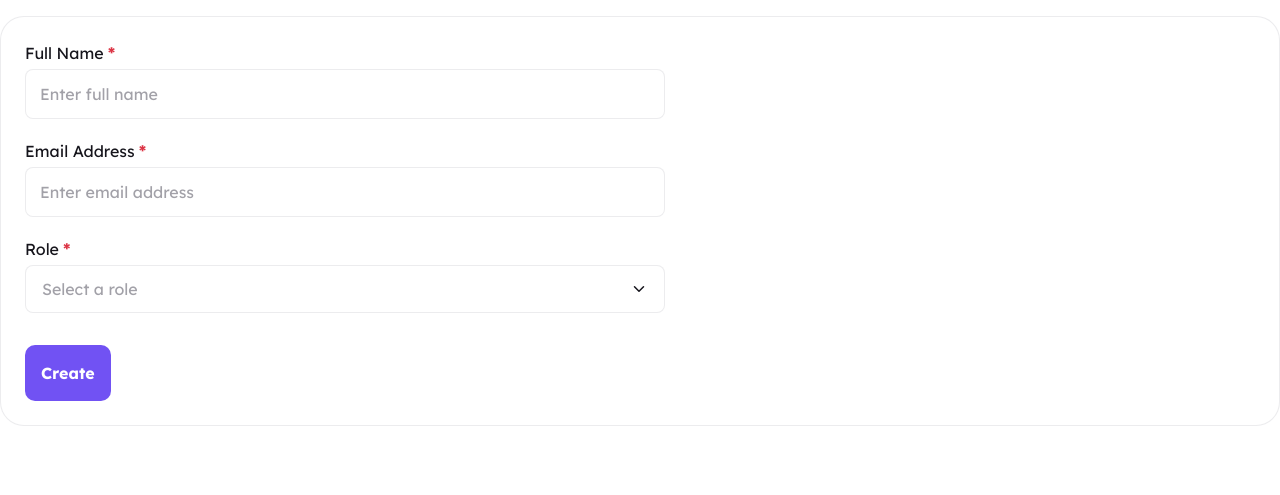
it: CreateUserDashboard › validation › rejects a malformed email address
In the field with placeholder "Enter full name": (345, 94) top-left (26, 70), bottom-right (664, 118), type "John Smith"
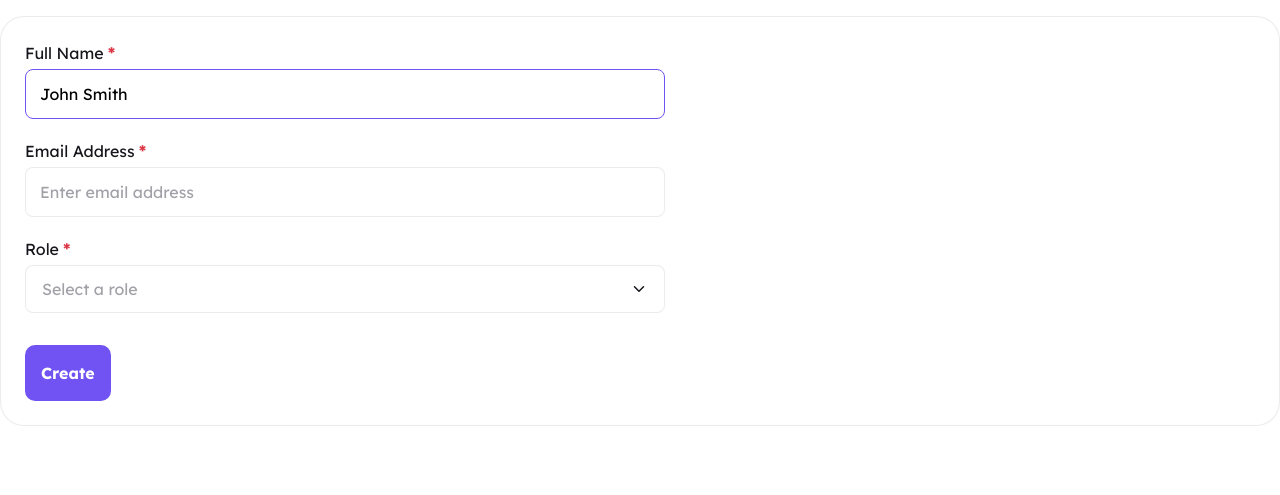
In the field with placeholder "Enter email address": (345, 192) top-left (26, 168), bottom-right (664, 216), type "not-an-email"
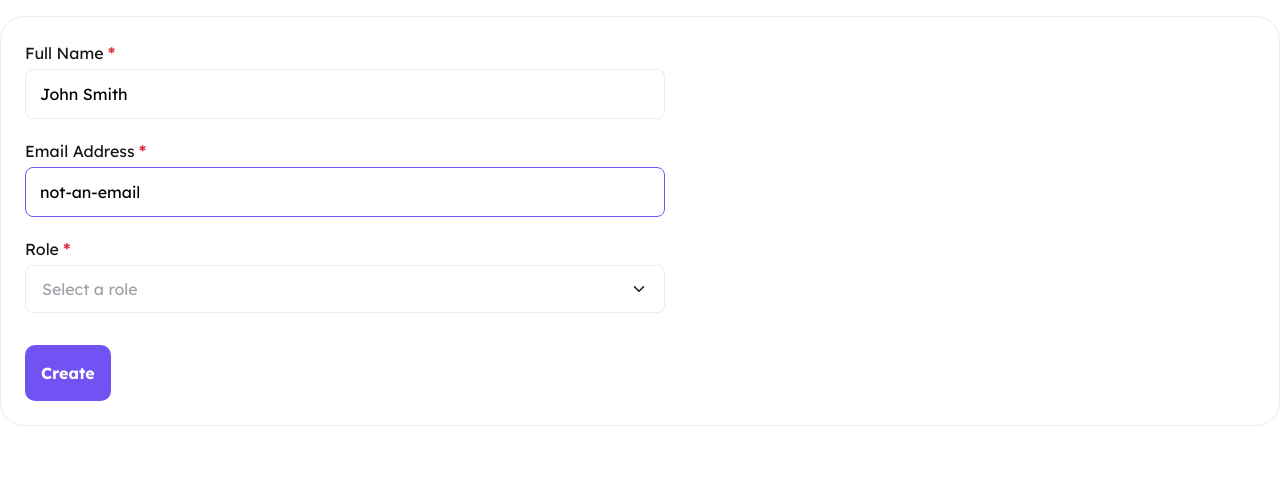
Click the button "Create": click(68, 373) top-left (25, 345), bottom-right (111, 401)
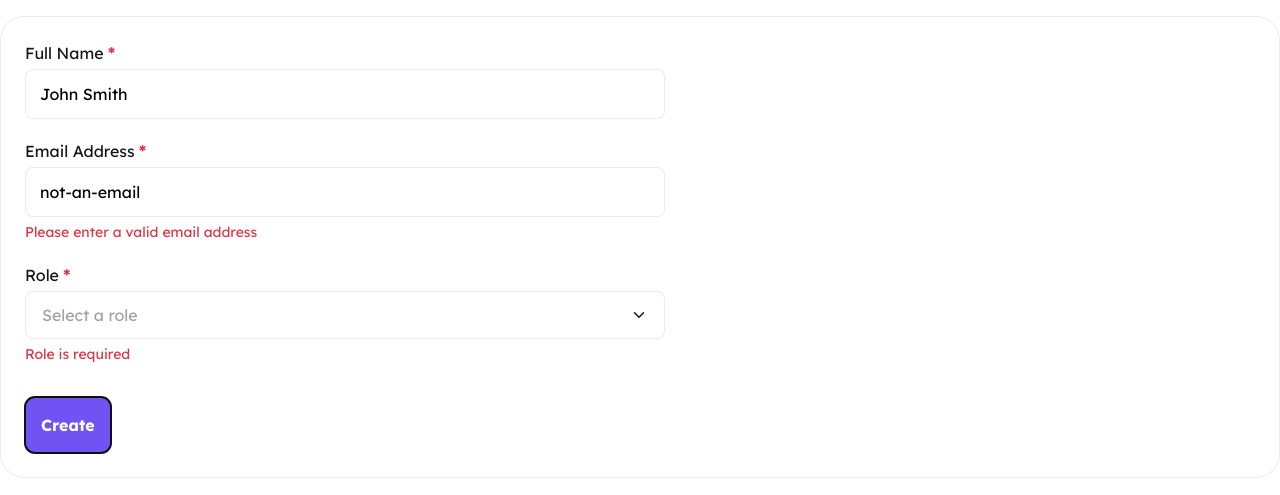
Expected: the text "Please enter a valid email address" is shown, top-left (25, 223), bottom-right (257, 241)
